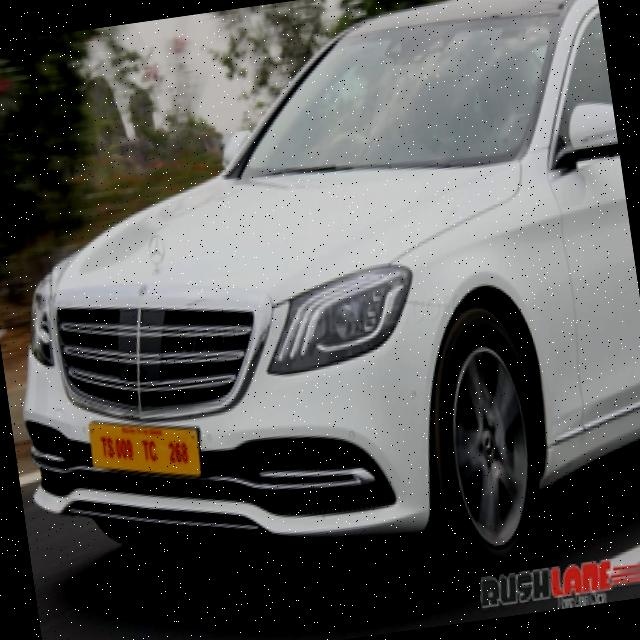Autre: (86, 398, 209, 494)
